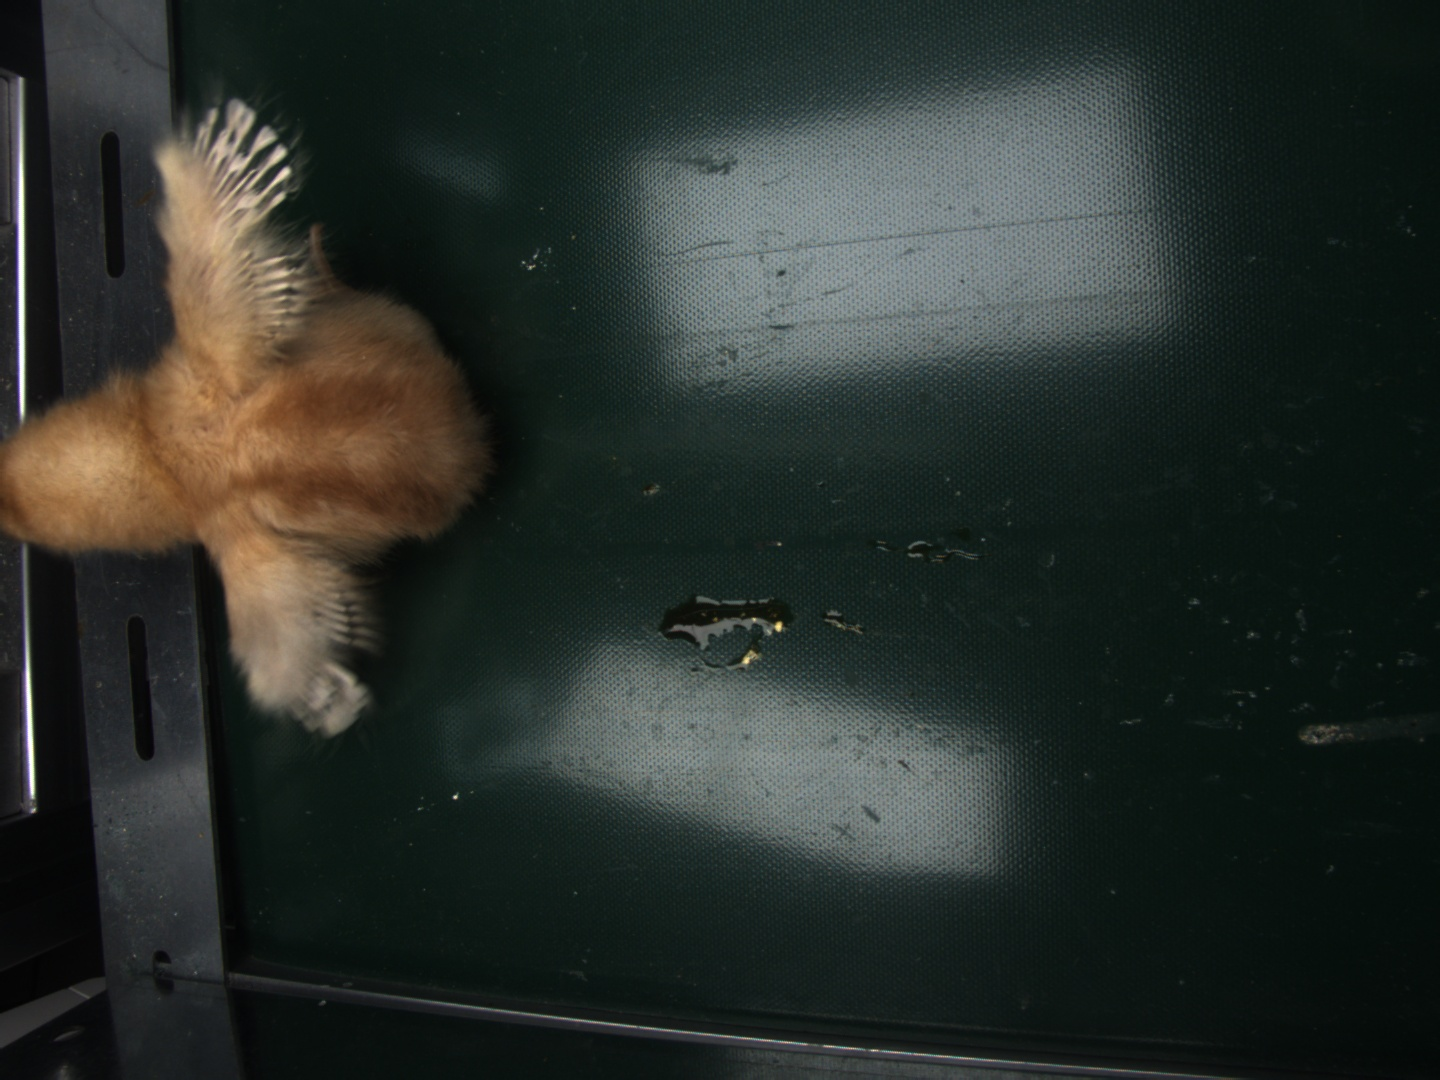female: (192, 100, 290, 225)
